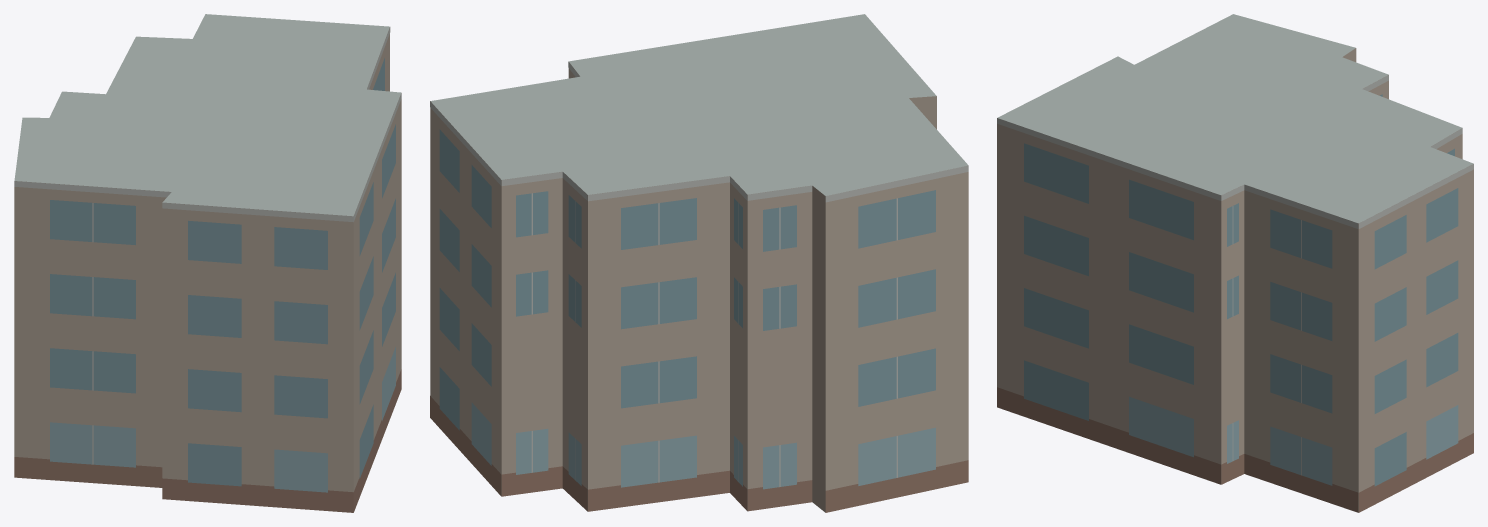
Rendered from survey-upis-32651583.glb.
The picture shows the model from 3 angles, left to right: view 1: azimuth 30°, elevation 25°; view 2: azimuth 150°, elevation 25°; view 3: azimuth 270°, elevation 25°; orthographic projection. The views are drawn at different scales.
Visible parts, largest first — view 1: survey-upis-32651583.tmp; view 2: survey-upis-32651583.tmp; view 3: survey-upis-32651583.tmp.
Part boxes in pixels (bbox=[...]): survey-upis-32651583.tmp: bbox=[14, 14, 401, 512]; survey-upis-32651583.tmp: bbox=[430, 14, 968, 512]; survey-upis-32651583.tmp: bbox=[997, 14, 1473, 512].
Size of the model in its own units: 18.94 by 12.2 by 18.22.
